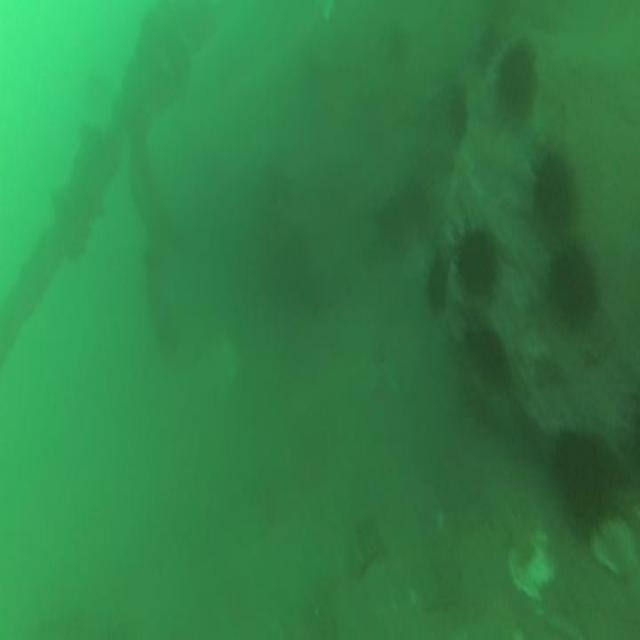echinus: (555, 418, 615, 544), (541, 229, 607, 330), (526, 141, 584, 237), (449, 212, 508, 306), (488, 38, 545, 130), (457, 304, 510, 382), (414, 240, 454, 319)
scallop: (596, 509, 636, 581)
